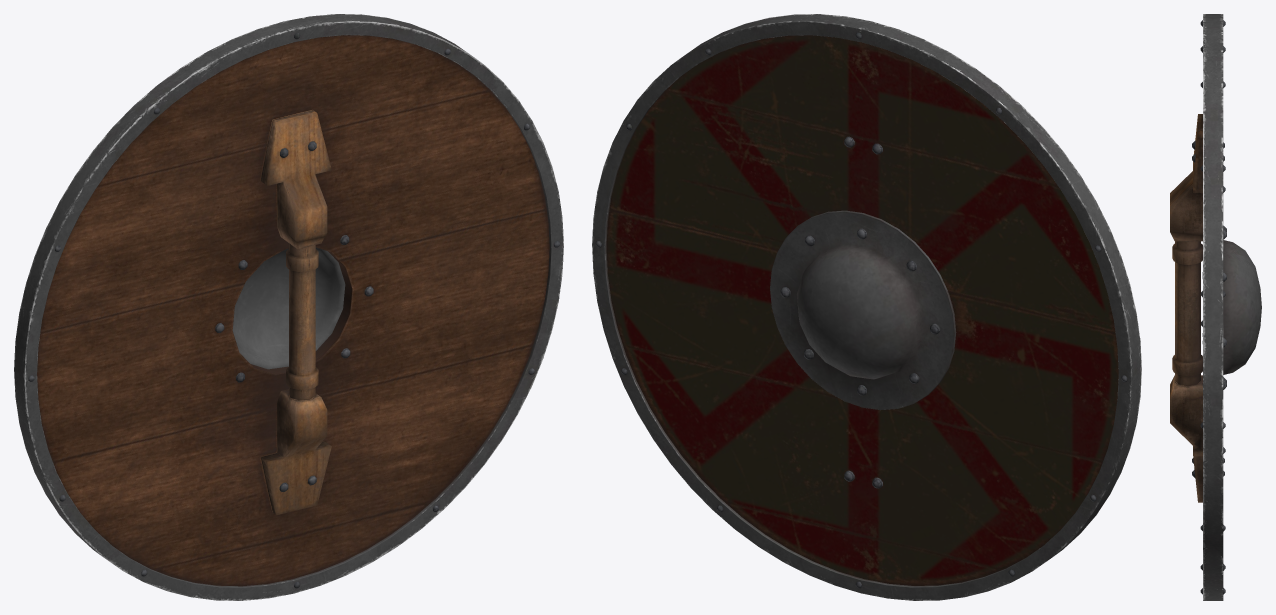
Rendered from whhirdshield.glb.
The picture shows the model from 3 angles, left to right: view 1: azimuth 30°, elevation 25°; view 2: azimuth 150°, elevation 25°; view 3: azimuth 270°, elevation 25°; orthographic projection. The views are drawn at different scales.
Visible parts, largest first — view 1: SM_RoundShield; view 2: SM_RoundShield; view 3: SM_RoundShield.
Boxes of the visible parts, x1,y1,x2,y2 form: SM_RoundShield: (14, 14, 563, 600); SM_RoundShield: (592, 14, 1141, 600); SM_RoundShield: (1170, 14, 1261, 600).
Size of the model in its own units: 0.769 by 0.769 by 0.1204.
Materials: 1 (1 with a texture image).
